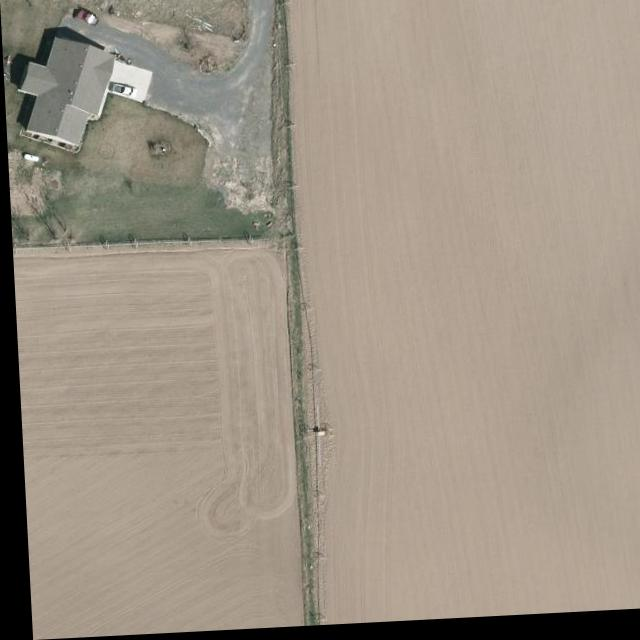vehicle: (73, 9, 101, 30), (110, 85, 137, 102)
